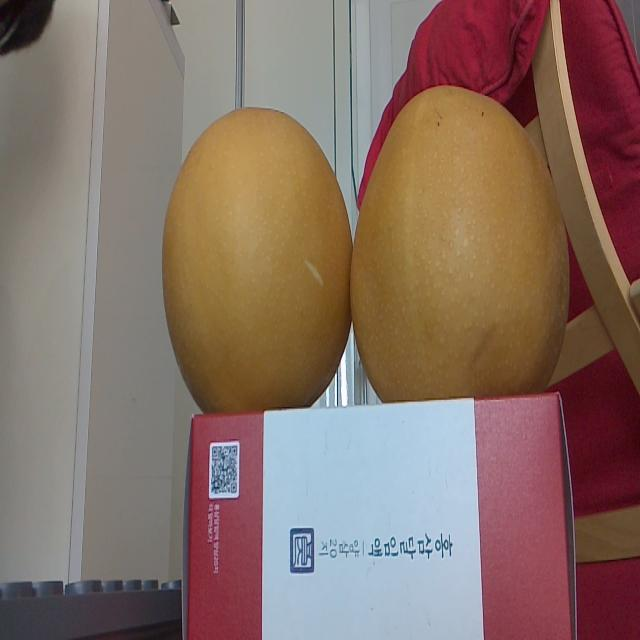pear: (350, 89, 571, 396), (161, 109, 353, 411)
